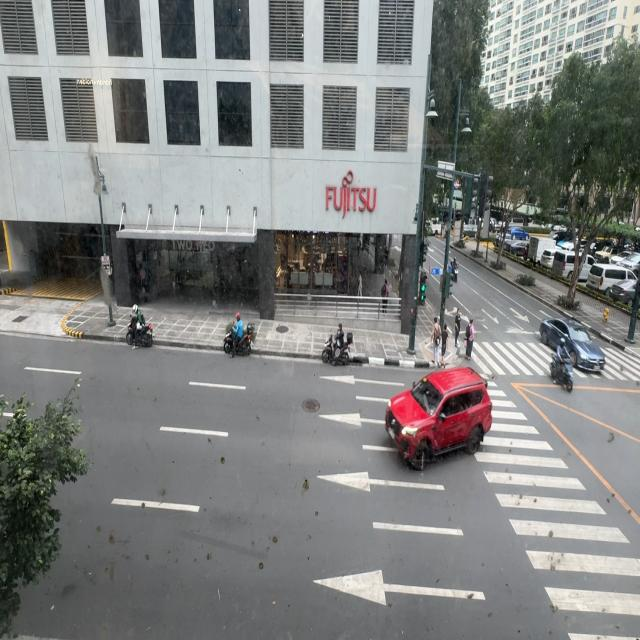crossing: (430, 315, 442, 367), (442, 323, 450, 359)
pedestrain: (139, 263, 148, 302)
waiting: (465, 319, 474, 359), (454, 308, 462, 350)
